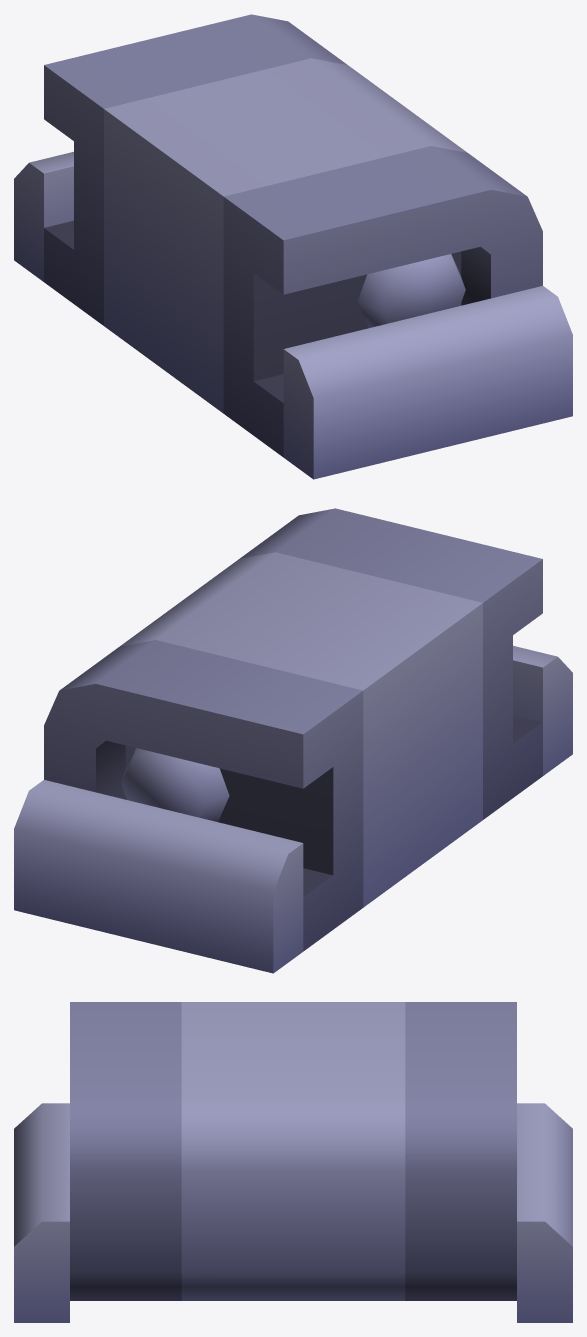
File: conveyor-long-stripe-sides-part-end.fbx
3 views of the same model, one above another, from view 1: azimuth 30°, elevation 25°; view 2: azimuth 150°, elevation 25°; view 3: azimuth 270°, elevation 25° (orthographic). The views are drawn at different scales.
Parts seen in each view (by area): view 1: conveyor-long-stripe-sides-part-end; view 2: conveyor-long-stripe-sides-part-end; view 3: conveyor-long-stripe-sides-part-end.
Boxes of the visible parts, x1,y1,x2,y2 form: conveyor-long-stripe-sides-part-end: (14,14,572,479); conveyor-long-stripe-sides-part-end: (14,508,572,973); conveyor-long-stripe-sides-part-end: (14,1002,572,1322).
Size of the model in its own units: 50 by 40 by 100.
1 material, 1 textured.
